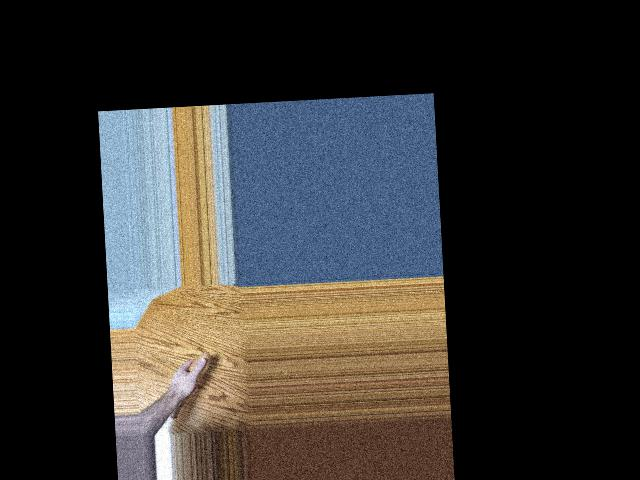sweet_potato: (165, 351, 213, 421)
